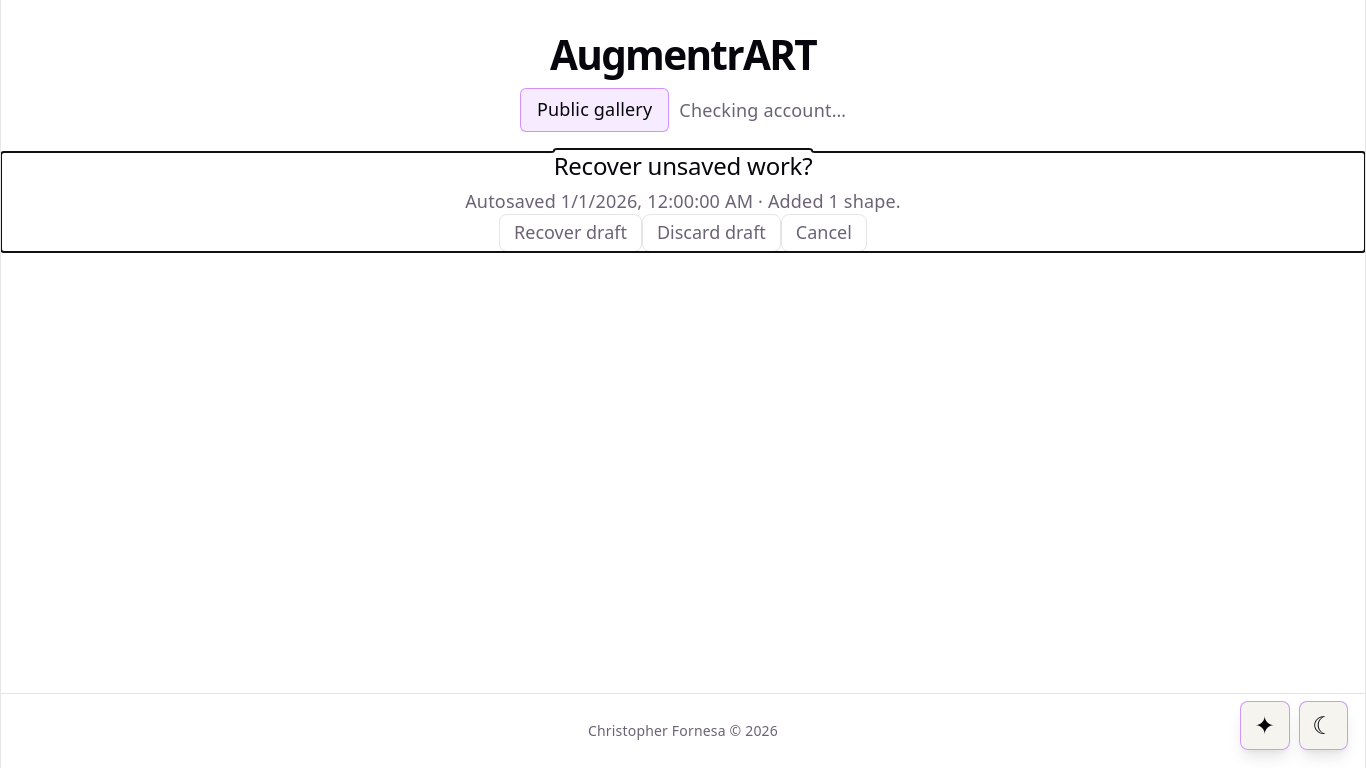
Test: DraftRecoveryPrompt accessibility › has no axe violations while discarding is in progress
Click the button "Discard draft" at (711, 233), box [642,214,781,252]
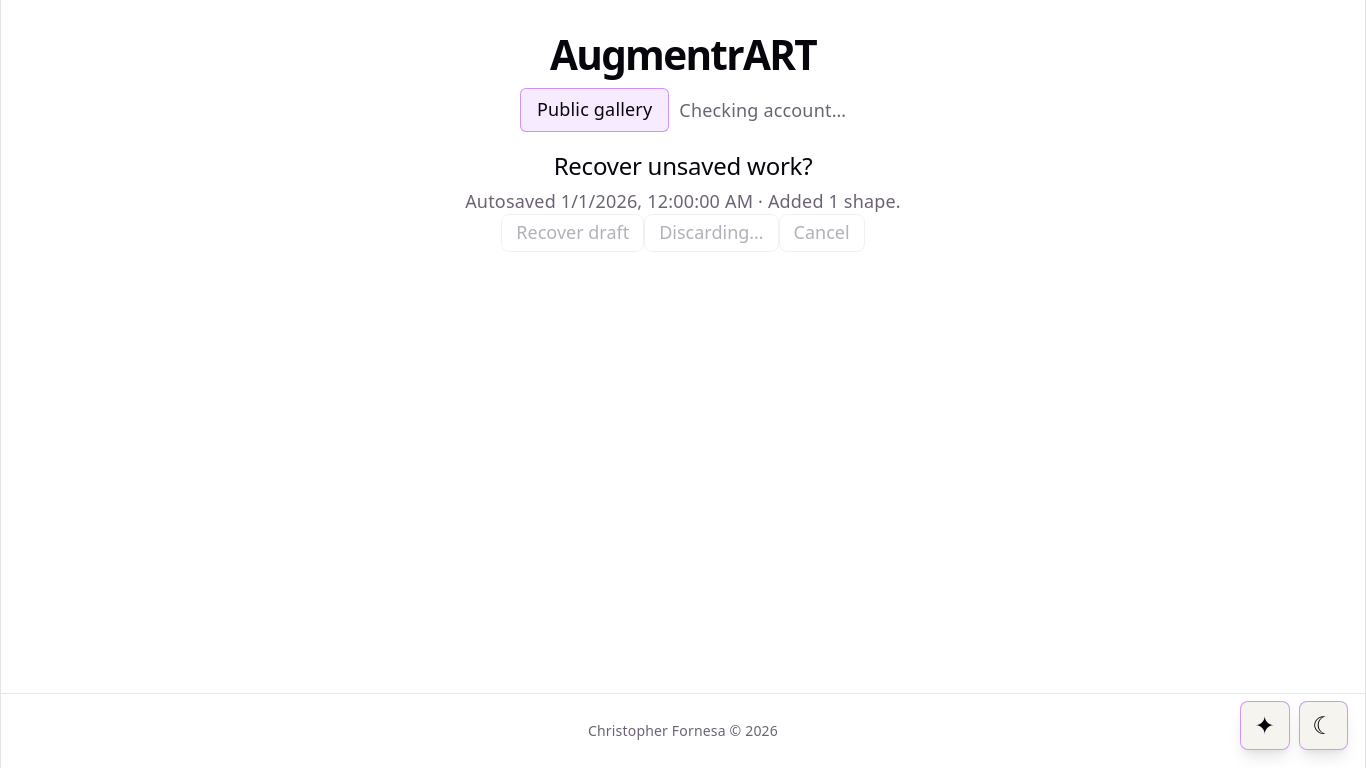
Result: the button "Discarding…" is shown at [644,214,779,252]
